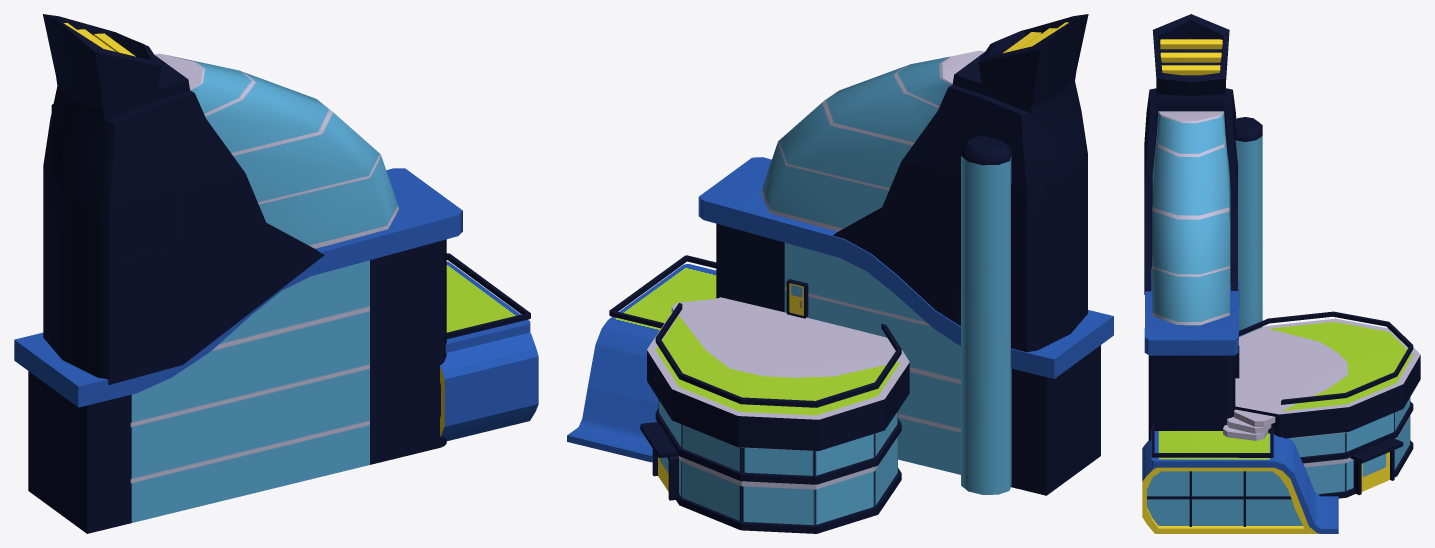
File: Tx_Building_Con_Blue_03.fbx
3 views of the same model, side by side, from view 1: azimuth 30°, elevation 25°; view 2: azimuth 150°, elevation 25°; view 3: azimuth 270°, elevation 25° (orthographic). The views are drawn at different scales.
Visible parts, largest first — view 1: Buiding_3_Wall, Buiding_3_Top_Cover, Buiding_3_Top_Window, Buiding_3_Wall_Roof, Buiding_1, Buiding_1_Roof, Buiding_1_Handle; view 2: Buiding_3_Top_Cover, Buiding_3_Wall, Buiding_2_Roof, Buiding_3_Top_Window, Buiding_3_Elavator_Tube, Buiding_2_Wall, Buiding_1_Roof, Buiding_3_Wall_Roof, Buiding_2_Handle, Buiding_2_Pillar1, Buiding_2_Pillar, Buiding_1_Handle (+1 smaller); view 3: Buiding_2_Roof, Buiding_3_Top_Window, Buiding_1, Buiding_3_Top_Cover, Buiding_3_Wall, Buiding_1_Roof, Buiding_3_Elavator_Tube, Buiding_2_Wall, Buiding_3_Wall_Roof, Buiding_2_Handle, Buiding_2_Pillar1, Buiding_2_Door (+11 smaller).
Boxes of the visible parts, <box> form: Buiding_3_Wall: <box>28,239,446,533</box>; Buiding_3_Top_Cover: <box>43,14,324,384</box>; Buiding_3_Top_Window: <box>154,53,398,248</box>; Buiding_3_Wall_Roof: <box>14,168,462,407</box>; Buiding_1: <box>440,332,538,441</box>; Buiding_1_Roof: <box>445,261,530,352</box>; Buiding_1_Handle: <box>446,253,530,339</box>; Buiding_3_Top_Cover: <box>833,14,1088,351</box>; Buiding_3_Wall: <box>716,223,1100,495</box>; Buiding_2_Roof: <box>647,297,909,450</box>; Buiding_3_Top_Window: <box>761,50,984,231</box>; Buiding_3_Elavator_Tube: <box>961,136,1011,494</box>; Buiding_2_Wall: <box>658,400,897,525</box>; Buiding_1_Roof: <box>567,264,716,462</box>; Buiding_3_Wall_Roof: <box>698,157,1113,378</box>; Buiding_2_Handle: <box>655,303,901,407</box>; Buiding_2_Pillar1: <box>655,408,901,484</box>; Buiding_2_Pillar: <box>676,468,901,533</box>; Buiding_1_Handle: <box>609,255,716,328</box>; Buiding_2_Roof: <box>1235,318,1420,438</box>; Buiding_3_Top_Window: <box>1152,111,1229,325</box>; Buiding_1: <box>1142,440,1319,533</box>; Buiding_3_Top_Cover: <box>1144,14,1237,294</box>; Buiding_3_Wall: <box>1148,355,1235,440</box>; Buiding_1_Roof: <box>1151,430,1338,533</box>; Buiding_3_Elavator_Tube: <box>1228,117,1262,336</box>; Buiding_2_Wall: <box>1289,397,1410,494</box>; Buiding_3_Wall_Roof: <box>1144,268,1239,355</box>; Buiding_2_Handle: <box>1239,311,1413,404</box>; Buiding_2_Pillar1: <box>1300,401,1413,463</box>; Buiding_2_Door: <box>1361,452,1389,491</box>.
Bounding box in the file's own units: 83.59 × 85.84 × 60.11.
